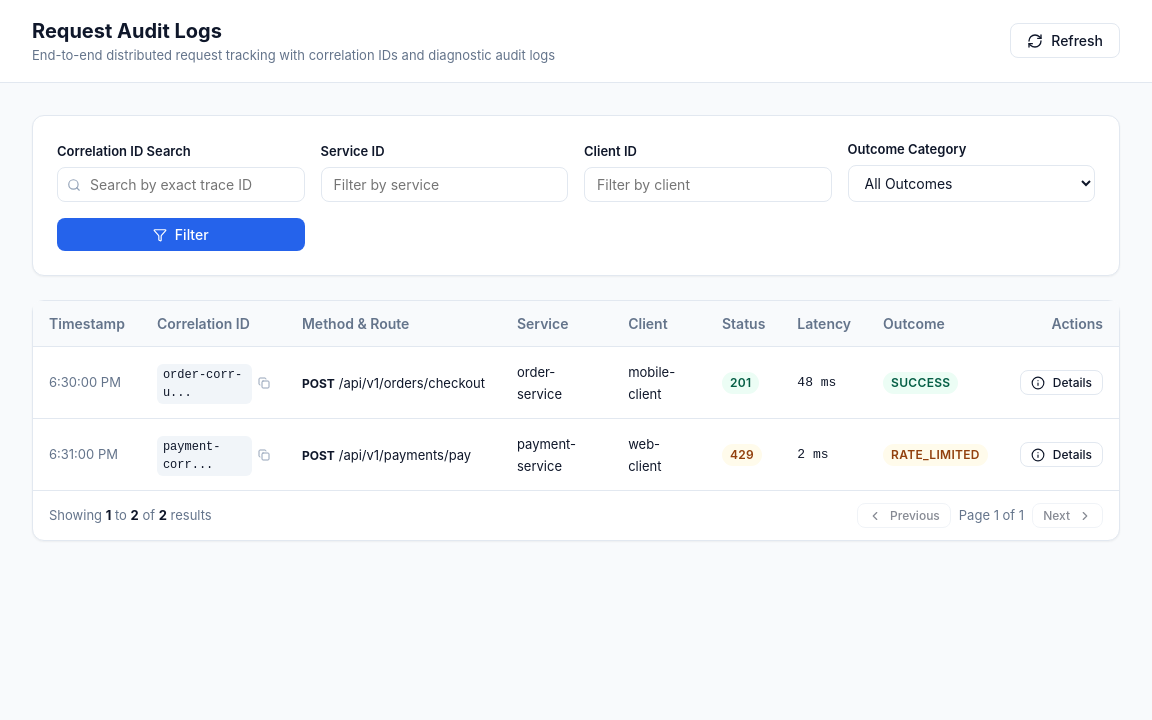
Scenario: RequestLogsPage Component › opens log detail modal when view details button is clicked
Expected: the text "order-corr-u..." is shown, [157,364,252,404]
Click the button titled "View diagnostic details" in the row of "6:30:00 PM". click: (1061, 382)
box: [1020,370,1103,395]
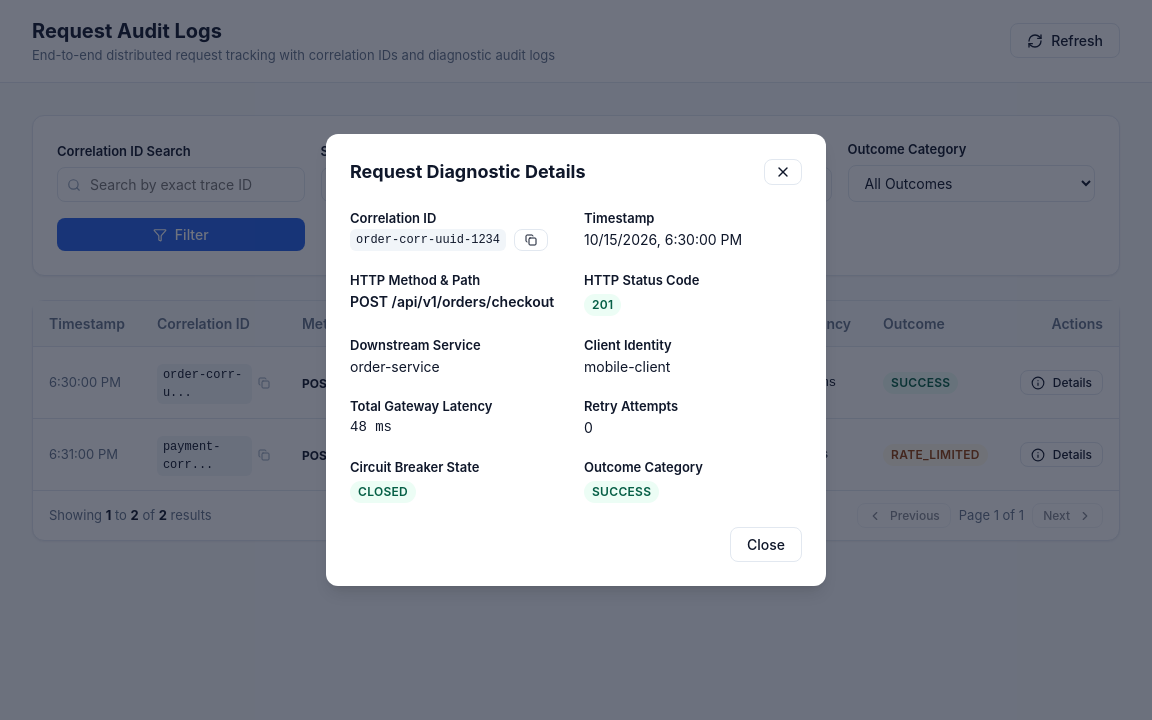
Expected: the heading "Request Diagnostic Details" is shown, [350,158,586,185]
Expected: the text "order-corr-uuid-1234" is shown, [350,229,506,251]
Expected: the text "Total Gateway Latency" is shown, [350,398,492,414]
